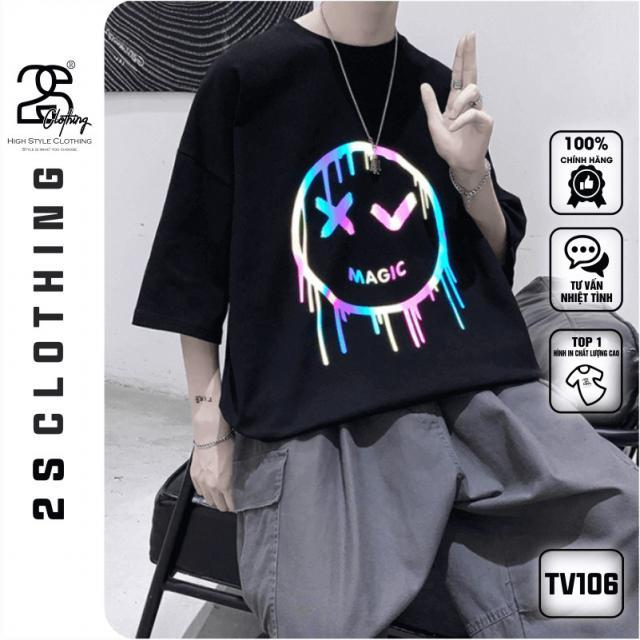Shirt: (130, 21, 548, 437)
